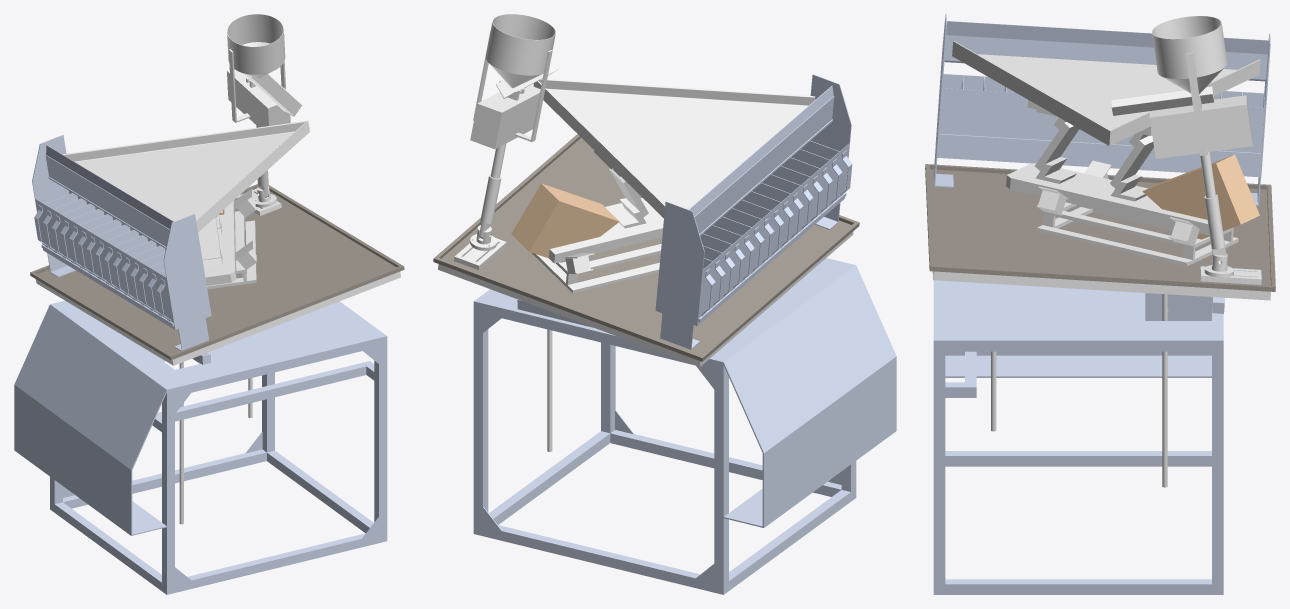
The model's file is 1793535375374-asset_ad57f8d3aa4d.glb.
The picture shows the model from 3 angles, left to right: view 1: azimuth 30°, elevation 25°; view 2: azimuth 150°, elevation 25°; view 3: azimuth 270°, elevation 25°; orthographic projection. The views are drawn at different scales.
Parts seen in each view (by area): view 1: 底架-1, 连床钢板-1, 振动分选盘-1, 储料架总装-1/储料架-1, 连接大件-1, 给料总装-1/漏斗-1, 给料总装-1/漏斗下箱体-1, 床板-1, 给料总装-1/给料槽-1, 储料架总装-1/储料盒子-2, 储料架总装-1/储料盒子-10, 储料架总装-1/储料盒子-4 (+11 smaller); view 2: 底架-1, 连床钢板-1, 振动分选盘-1, 储料架总装-1/储料架-1, 连接大件-1, 振动器-1, 给料总装-1/漏斗-1, 给料总装-1/漏斗下箱体-1, 床板-1, 储料架总装-1/储料盒子-6, 储料架总装-1/储料盒子-11, 储料架总装-1/储料盒子-12 (+14 smaller); view 3: 底架-1, 连床钢板-1, 储料架总装-1/储料架-1, 连接大件-1, 振动分选盘-1, 给料总装-1/漏斗下箱体-1, 振动器-1, 给料总装-1/漏斗-1, 床板-1, 给料总装-1/给料槽-1, 储料架总装-1/储料盒子-15, 储料架总装-1/储料盒子-16 (+10 smaller).
Part boxes in pixels (<box>): 底架-1: <box>14,300,387,594</box>; 连床钢板-1: <box>30,184,404,360</box>; 振动分选盘-1: <box>63,120,309,232</box>; 储料架总装-1/储料架-1: <box>32,135,211,350</box>; 连接大件-1: <box>198,188,256,289</box>; 给料总装-1/漏斗-1: <box>227,14,285,78</box>; 给料总装-1/漏斗下箱体-1: <box>227,49,290,127</box>; 床板-1: <box>35,271,400,365</box>; 给料总装-1/给料槽-1: <box>242,73,302,116</box>; 储料架总装-1/储料盒子-2: <box>34,188,77,248</box>; 储料架总装-1/储料盒子-10: <box>104,230,147,291</box>; 储料架总装-1/储料盒子-4: <box>51,199,95,259</box>; 底架-1: <box>473,258,896,594</box>; 连床钢板-1: <box>433,134,859,361</box>; 振动分选盘-1: <box>533,79,815,218</box>; 储料架总装-1/储料架-1: <box>655,74,851,349</box>; 连接大件-1: <box>526,150,663,293</box>; 振动器-1: <box>511,183,619,262</box>; 给料总装-1/漏斗-1: <box>485,14,555,88</box>; 给料总装-1/漏斗下箱体-1: <box>470,30,552,149</box>; 床板-1: <box>438,231,853,366</box>; 储料架总装-1/储料盒子-6: <box>703,217,754,282</box>; 储料架总装-1/储料盒子-11: <box>752,174,803,240</box>; 储料架总装-1/储料盒子-12: <box>762,166,813,232</box>; 底架-1: <box>933,280,1223,594</box>; 连床钢板-1: <box>925,164,1275,291</box>; 储料架总装-1/储料架-1: <box>933,14,1270,205</box>; 连接大件-1: <box>1006,92,1238,266</box>; 振动分选盘-1: <box>952,41,1260,145</box>; 给料总装-1/漏斗下箱体-1: <box>1149,52,1252,158</box>; 振动器-1: <box>1142,154,1259,239</box>; 给料总装-1/漏斗-1: <box>1152,16,1227,93</box>; 床板-1: <box>932,271,1270,300</box>; 给料总装-1/给料槽-1: <box>1111,86,1213,115</box>; 储料架总装-1/储料盒子-15: <box>960,75,985,136</box>; 储料架总装-1/储料盒子-16: <box>939,74,963,134</box>.
Bounding box in the file's own units: 0.9925 × 1.56 × 0.8951.
